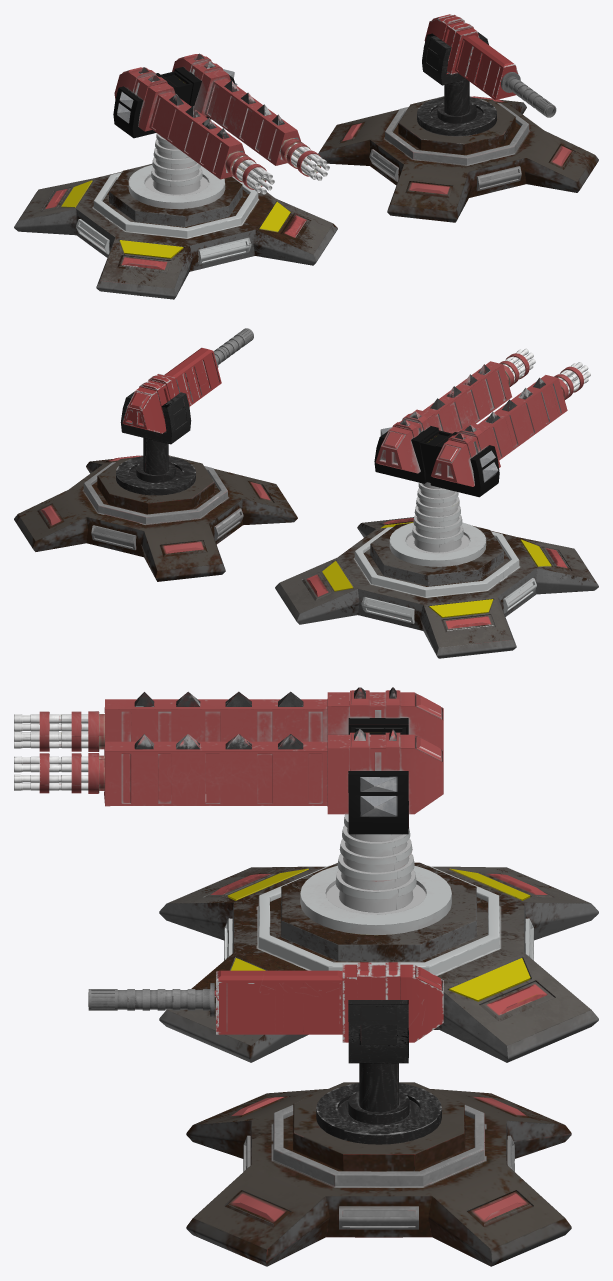
Rendered from Turret level 2.fbx.
3 views of the same model, one above another, from view 1: azimuth 30°, elevation 25°; view 2: azimuth 150°, elevation 25°; view 3: azimuth 270°, elevation 25° (orthographic). The views are drawn at different scales.
Parts seen in each view (by area): view 1: Level 1 turret base.002, Level 1 turret base, Gun barrel.002, Level 1 turret gun; view 2: Level 1 turret base.002, Level 1 turret base, Gun barrel.002, Level 1 turret gun; view 3: Level 1 turret base, Level 1 turret base.002, Gun barrel.002, Level 1 turret gun.
Boxes of the visible parts, x1,y1,x2,y2 form: Level 1 turret base.002: (14,133,337,299); Level 1 turret base: (318,79,598,222); Gun barrel.002: (113,53,329,194); Level 1 turret gun: (422,14,556,117); Level 1 turret base.002: (275,482,598,658); Level 1 turret base: (14,438,297,581); Gun barrel.002: (374,348,590,497); Level 1 turret gun: (120,328,253,444); Level 1 turret base: (186,1063,571,1266); Level 1 turret base.002: (159,814,598,1062); Gun barrel.002: (14,687,443,834); Level 1 turret gun: (88,962,443,1063).
Bounding box in the file's own units: 876 × 279 × 558.
